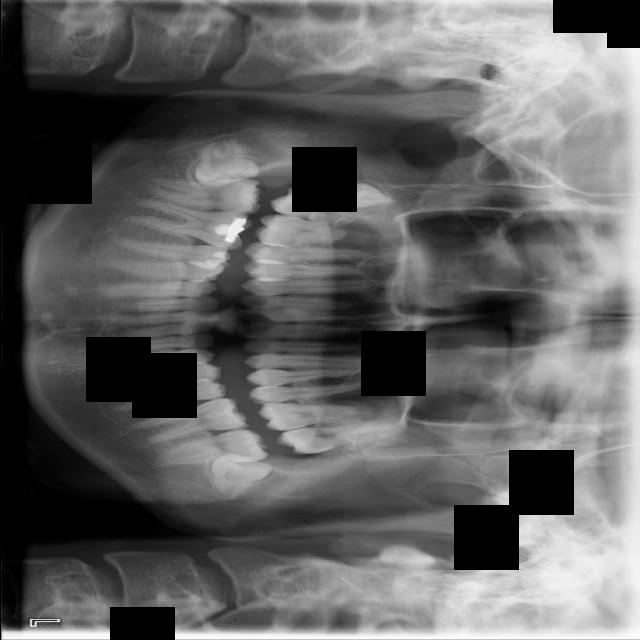3M ESPE Implant: (329, 182, 390, 207)
52: (192, 199, 255, 256), (186, 245, 230, 269)
73: (90, 574, 124, 582)
BioHorizons Implant: (273, 413, 411, 459)
Biomet 3i Implant: (202, 435, 276, 503)
Blue Sky Bio Implant: (152, 426, 268, 468)
Caries: (267, 184, 395, 230)
Implant: (150, 175, 262, 215)
Keystone Dental Implant: (187, 131, 261, 192)
